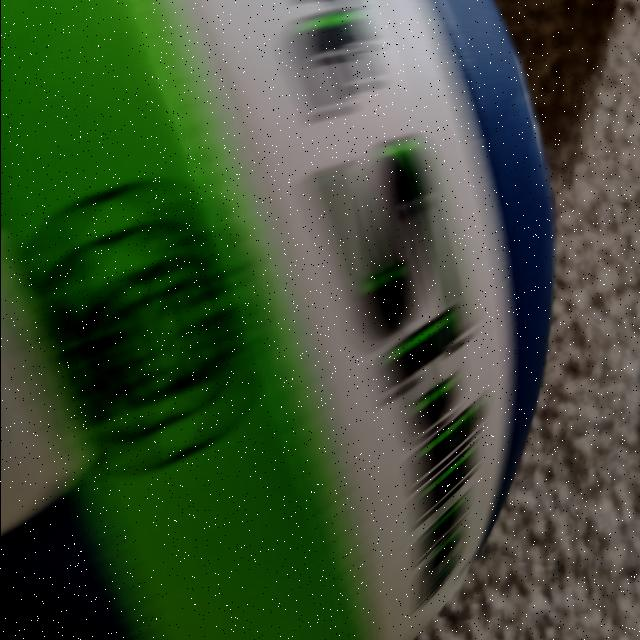ball: (3, 0, 523, 640)
